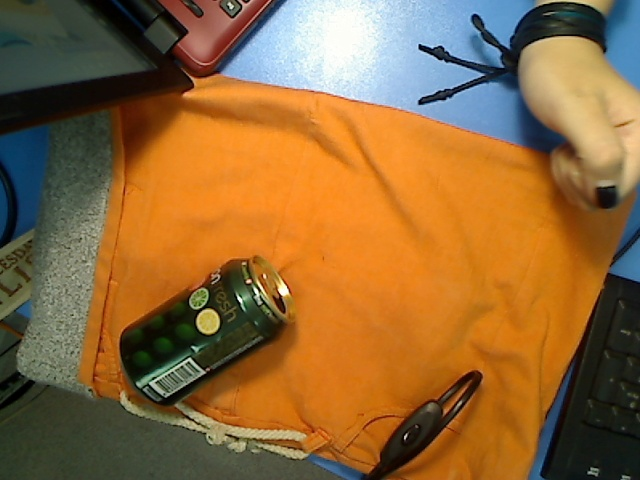can: (118, 253, 295, 410)
